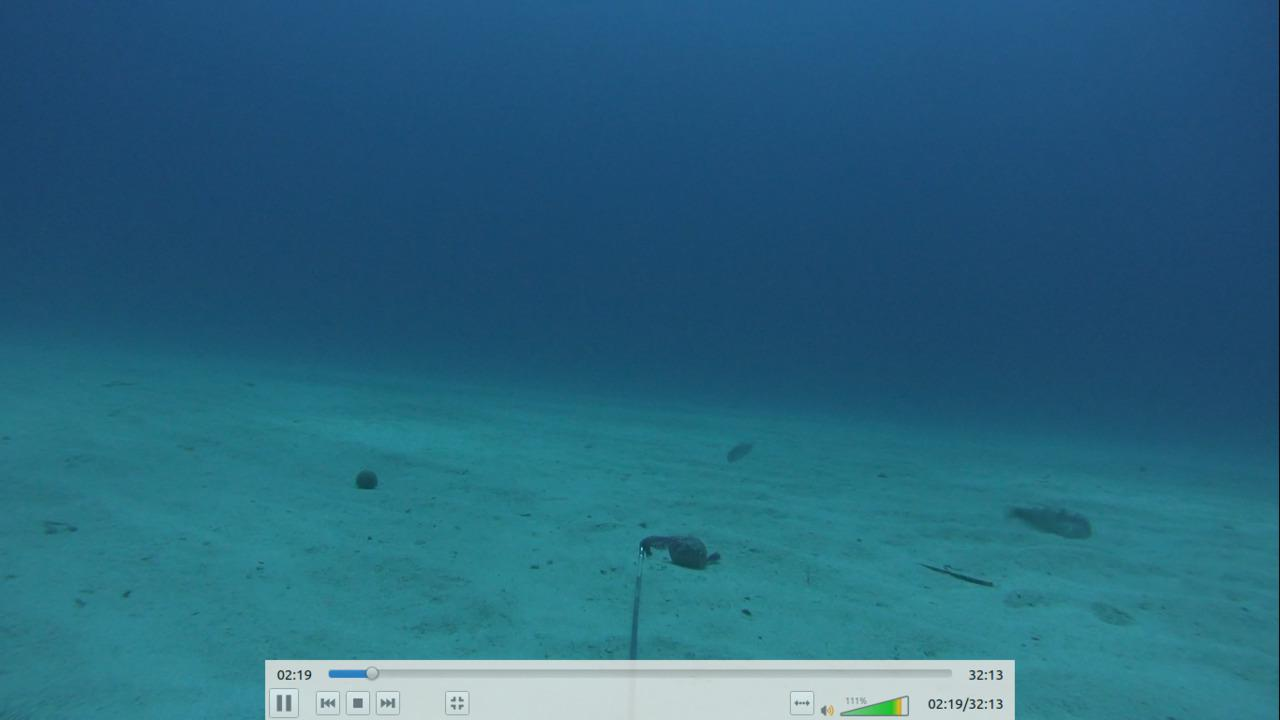raor: (993, 498, 1099, 545)
